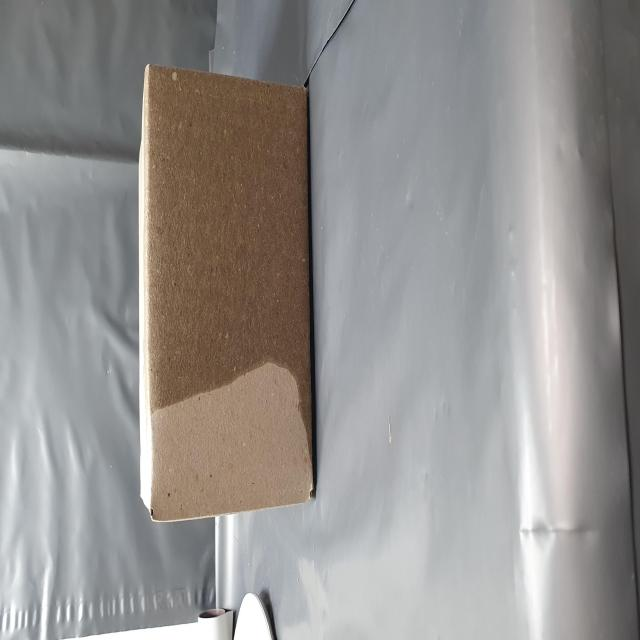wet: (81, 262, 319, 560)
